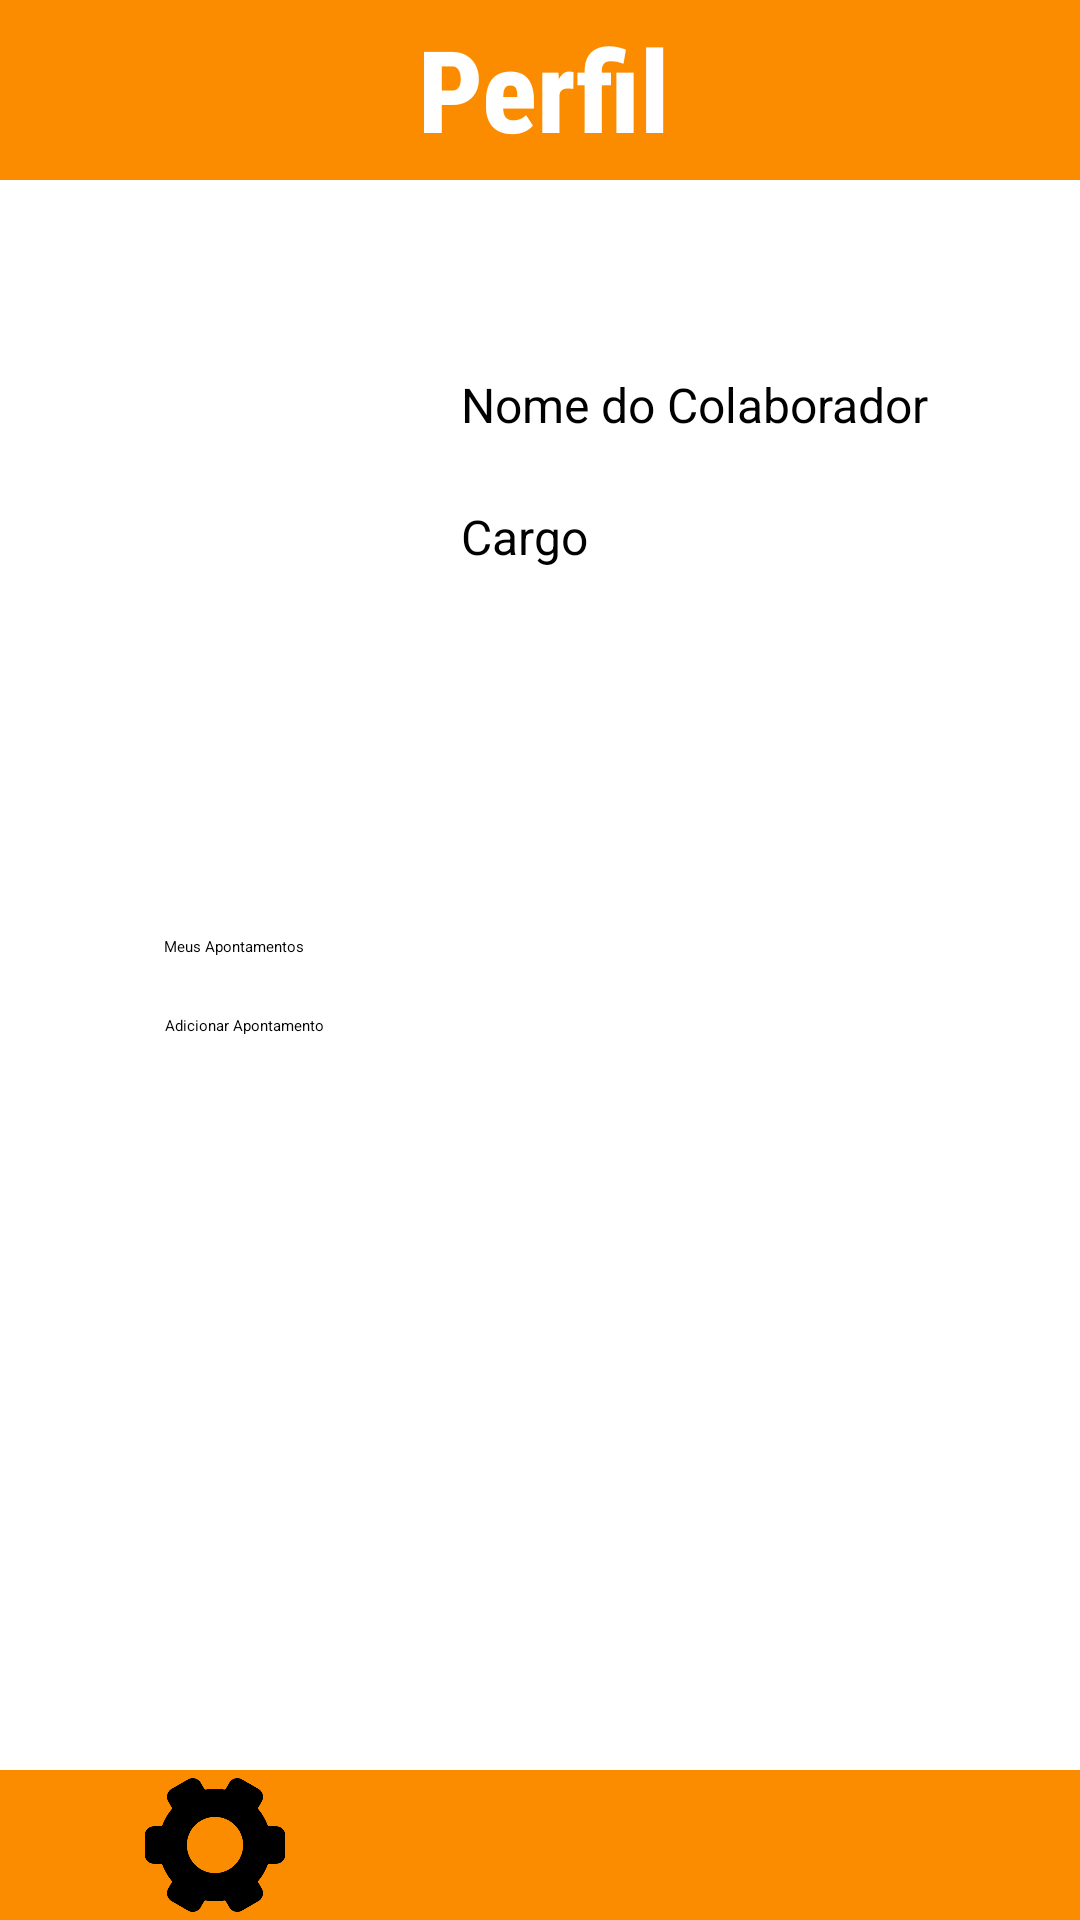

Where to tap for icons on this 1080*1920 app screen, as (x=x, y=y):
config: (x=215, y=1845)
